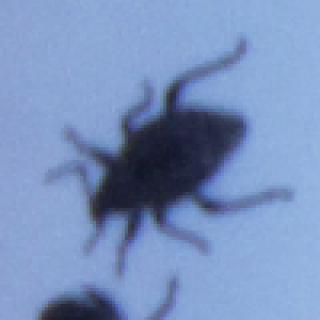bvw: (41, 38, 292, 274)
